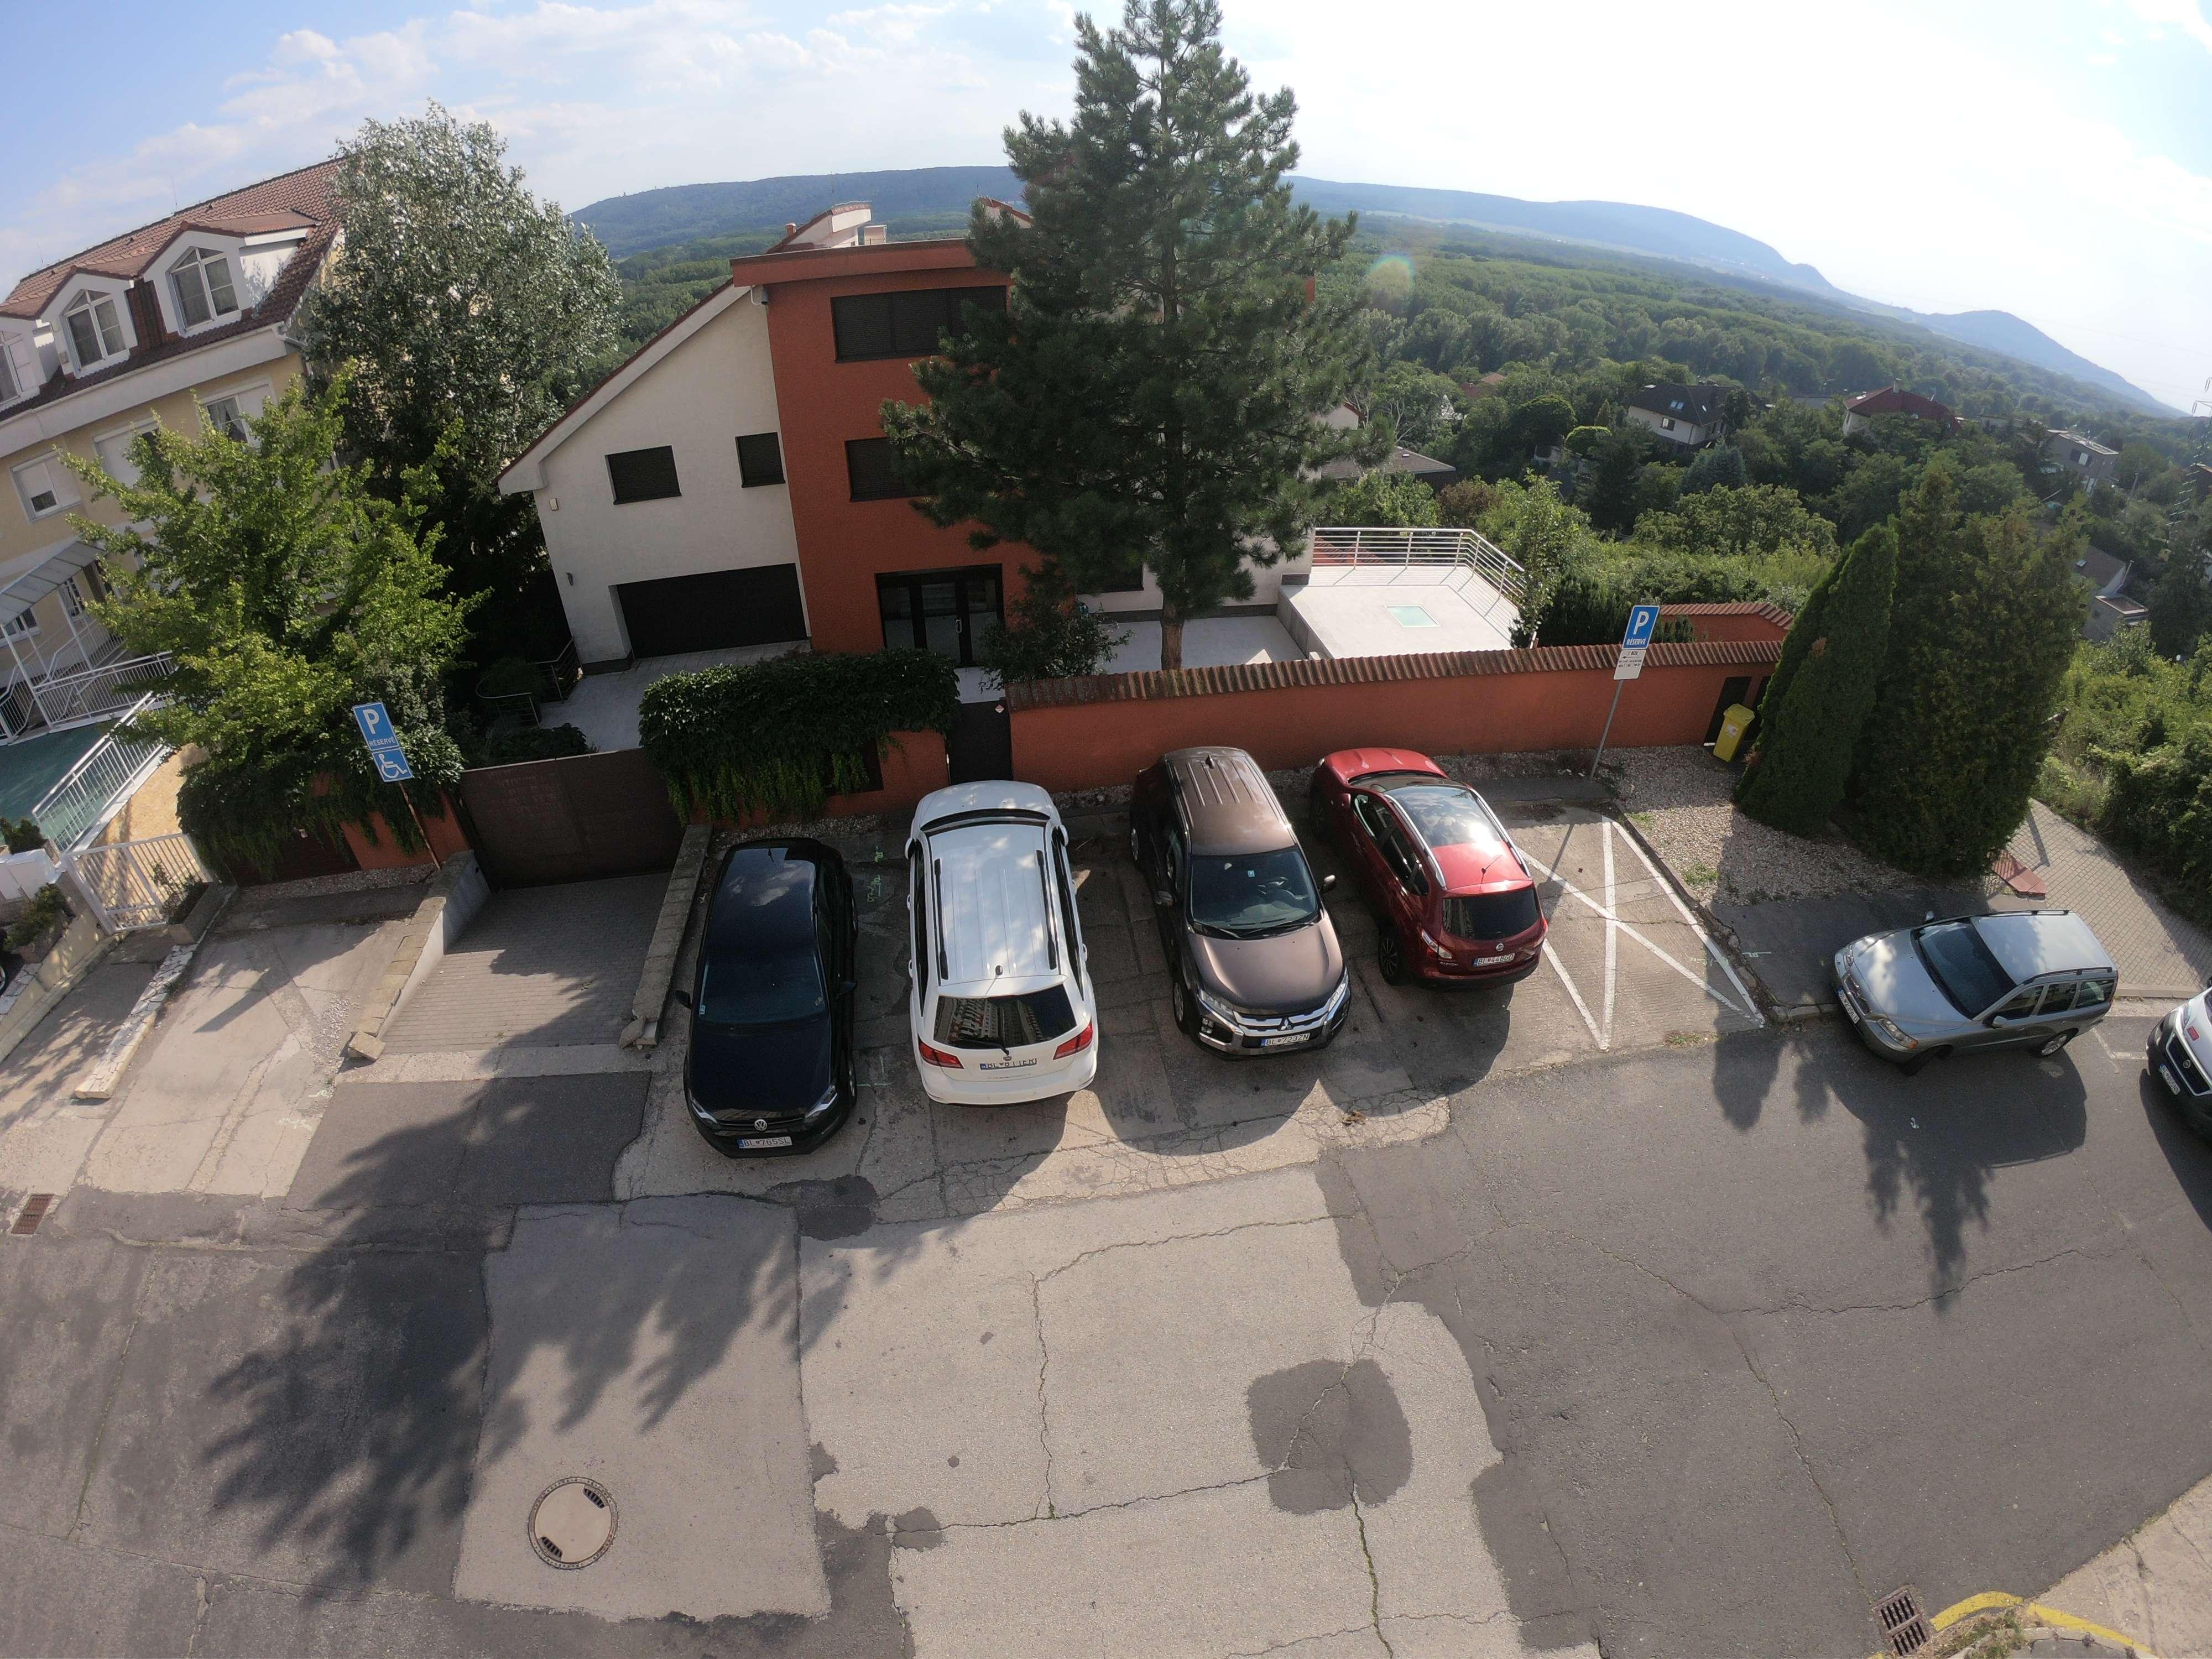empty: (881, 763, 1125, 1127), (1132, 735, 1378, 1053), (658, 810, 885, 1152), (1346, 751, 1564, 986), (1831, 897, 2123, 1070)
occupied: (169, 976, 324, 1134), (1555, 875, 1667, 993)
